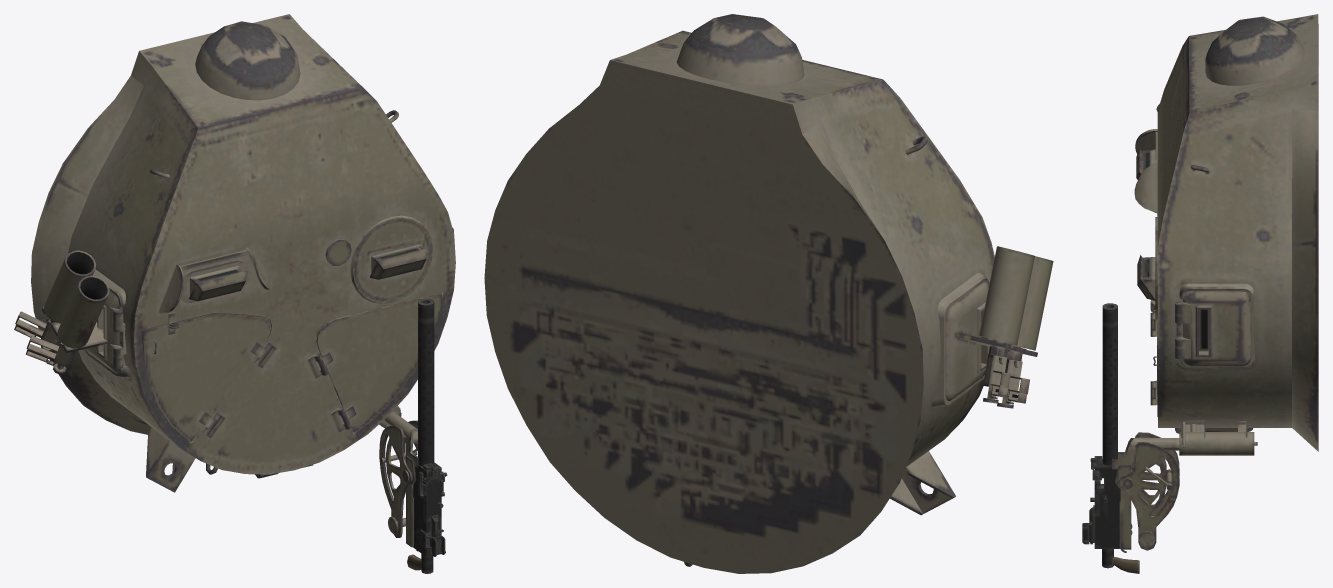
The model's file is Turret_02.glb.
3 views of the same model, side by side, from view 1: azimuth 30°, elevation 25°; view 2: azimuth 150°, elevation 25°; view 3: azimuth 270°, elevation 25° (orthographic). The views are drawn at different scales.
Visible parts, largest first — view 1: set_0_group_0; view 2: set_0_group_0; view 3: set_0_group_0.
Boxes of the visible parts, <box> form: set_0_group_0: <box>14,14,455,573</box>; set_0_group_0: <box>484,14,1053,573</box>; set_0_group_0: <box>1082,14,1318,573</box>.
Size of the model in its own units: 1.61 by 1.96 by 0.8376.
1 material, 1 textured.
